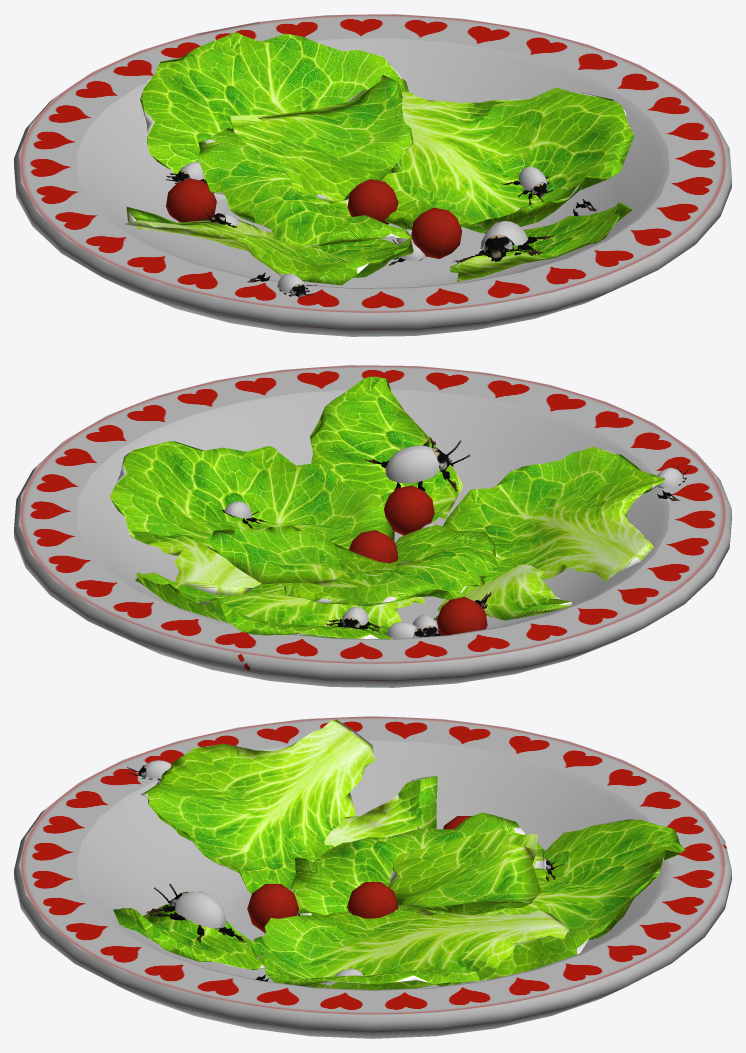
3 renders of one model, top to bottom at view 1: azimuth 30°, elevation 25°; view 2: azimuth 150°, elevation 25°; view 3: azimuth 270°, elevation 25°, orthographic.
Visible parts, largest first — view 1: Circle, PolySphere.001, PolySphere, PolySphere.009, PolySphere.003, PolySphere.002, PolySphere.005, Icosphere.003, Icosphere, Icosphere.002, PolySphere.006, Body.002 (+1 smaller); view 2: Circle, PolySphere.001, PolySphere.002, PolySphere.005, PolySphere.003, PolySphere, PolySphere.009, PolySphere.006, Icosphere.003, Elytra.002, Icosphere, Icosphere.002 (+1 smaller); view 3: Circle, PolySphere.002, PolySphere.001, PolySphere, PolySphere.009, PolySphere.003, PolySphere.005, PolySphere.006, Icosphere.003, Icosphere.002, Elytra.002, Body.002.
Part boxes in pixels (bbox=[...]): Circle: bbox=[14, 14, 731, 336]; PolySphere.001: bbox=[347, 87, 634, 233]; PolySphere: bbox=[140, 32, 408, 204]; PolySphere.009: bbox=[230, 75, 413, 203]; PolySphere.003: bbox=[198, 127, 412, 246]; PolySphere.002: bbox=[124, 220, 413, 285]; PolySphere.005: bbox=[450, 201, 631, 281]; Icosphere.003: bbox=[411, 207, 461, 258]; Icosphere: bbox=[166, 178, 216, 222]; Icosphere.002: bbox=[347, 179, 398, 224]; PolySphere.006: bbox=[126, 207, 274, 252]; Body.002: bbox=[453, 234, 554, 263]; Circle: bbox=[14, 365, 731, 687]; PolySphere.001: bbox=[109, 441, 394, 595]; PolySphere.002: bbox=[443, 446, 665, 597]; PolySphere.005: bbox=[310, 376, 463, 522]; PolySphere.003: bbox=[278, 524, 501, 606]; PolySphere: bbox=[135, 572, 424, 639]; PolySphere.009: bbox=[202, 525, 422, 587]; PolySphere.006: bbox=[434, 564, 572, 620]; Icosphere.003: bbox=[384, 485, 434, 535]; Elytra.002: bbox=[385, 445, 439, 483]; Icosphere: bbox=[436, 597, 487, 635]; Icosphere.002: bbox=[349, 530, 398, 563]; Circle: bbox=[14, 716, 731, 1038]; PolySphere.002: bbox=[140, 719, 374, 893]; PolySphere.001: bbox=[251, 908, 569, 990]; PolySphere: bbox=[489, 819, 685, 979]; PolySphere.009: bbox=[388, 828, 541, 915]; PolySphere.003: bbox=[289, 812, 546, 916]; PolySphere.005: bbox=[113, 903, 264, 969]; PolySphere.006: bbox=[324, 776, 437, 846]; Icosphere.003: bbox=[247, 884, 298, 933]; Icosphere.002: bbox=[347, 882, 397, 918]; Elytra.002: bbox=[175, 891, 225, 928]; Body.002: bbox=[146, 883, 247, 943].
Size of the model in its own units: 3.68 by 0.7332 by 3.68.
